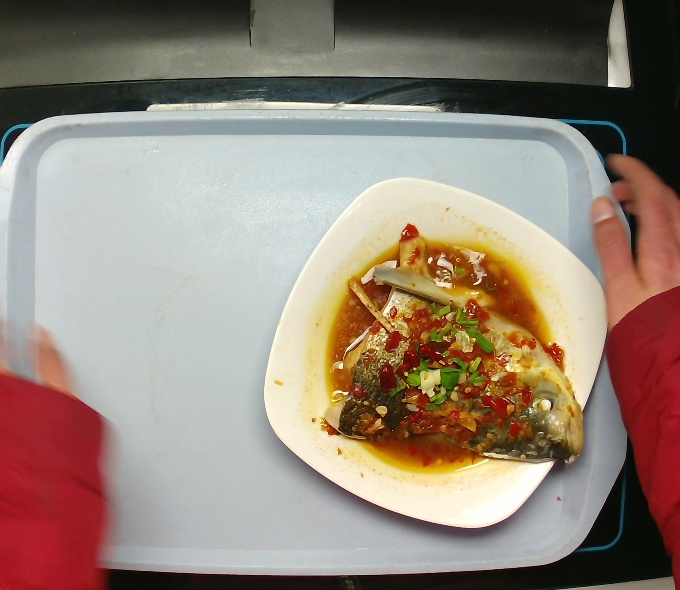wcq-DuoJiaoYuTou: (318, 220, 588, 470)
